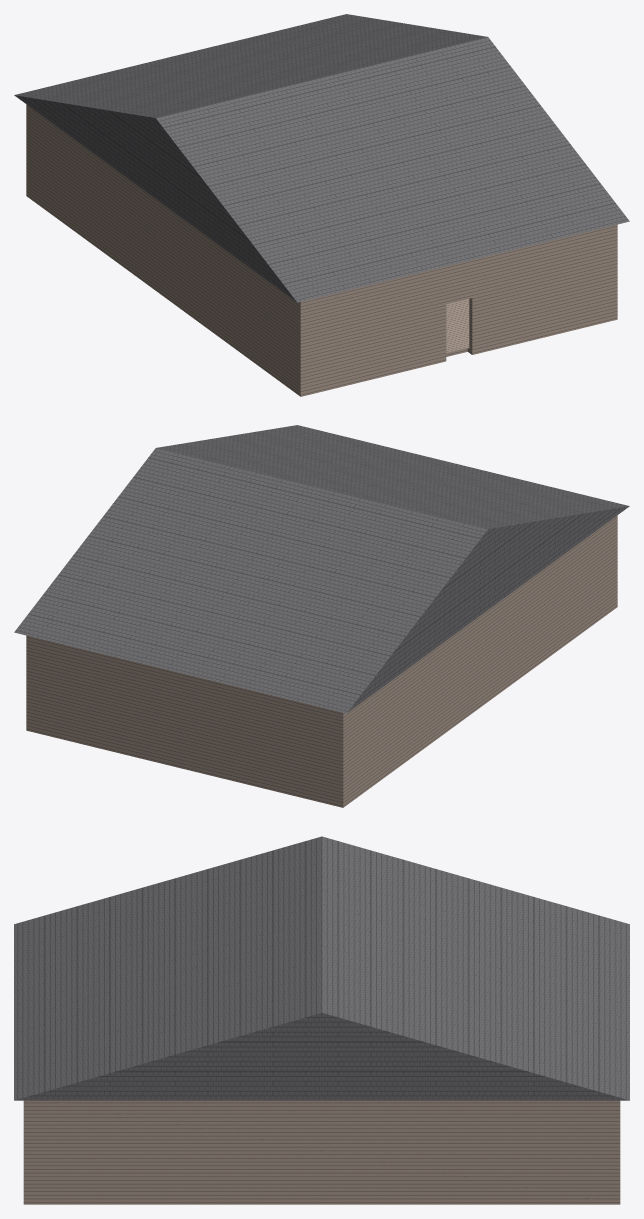
The model's file is pole_building.glb.
The picture shows the model from 3 angles, top to bottom: view 1: azimuth 30°, elevation 25°; view 2: azimuth 150°, elevation 25°; view 3: azimuth 270°, elevation 25°; orthographic projection. The views are drawn at different scales.
Parts seen in each view (by area): view 1: pole_building-col; view 2: pole_building-col; view 3: pole_building-col.
Boxes of the visible parts, x1,y1,x2,y2 form: pole_building-col: [14, 14, 629, 396]; pole_building-col: [14, 425, 629, 807]; pole_building-col: [14, 836, 629, 1204].
Size of the model in its own units: 12.79 by 6.63 by 18.89.
Materials: 2 (2 with a texture image).
